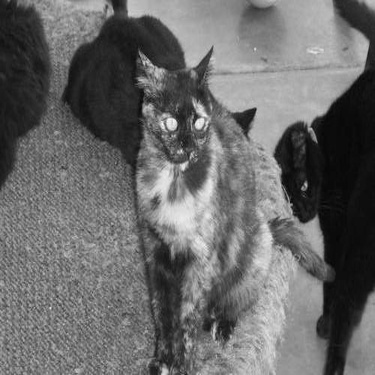cat: (136, 44, 335, 371), (270, 1, 370, 370), (62, 12, 256, 171), (2, 3, 48, 190)
